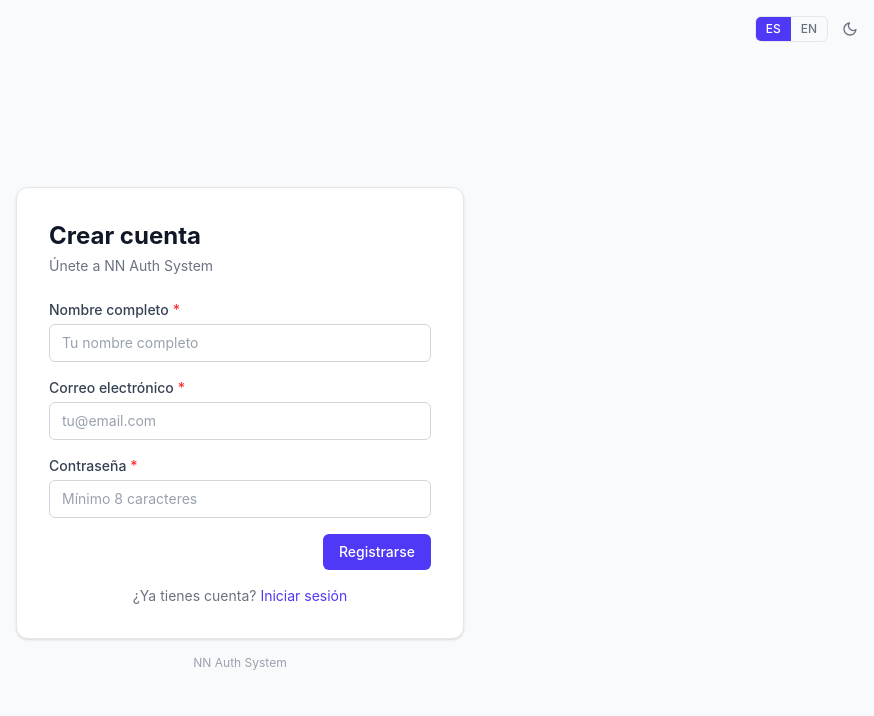
it: RegisterPage › shows error when password has fewer than 8 characters
Type "Test User" into the field labelled "Nombre completo*".
click(240, 343); type("Test User")  # box [49,324,431,362]
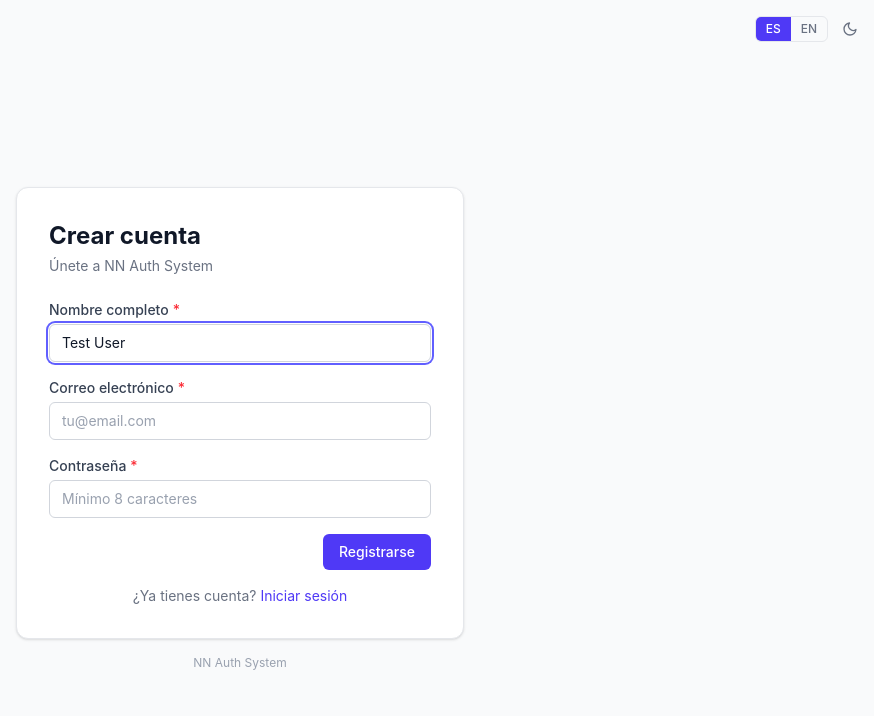
Type "test@test.com" into the field labelled "Correo electrónico*".
click(240, 421); type("test@test.com")  # box [49,402,431,440]
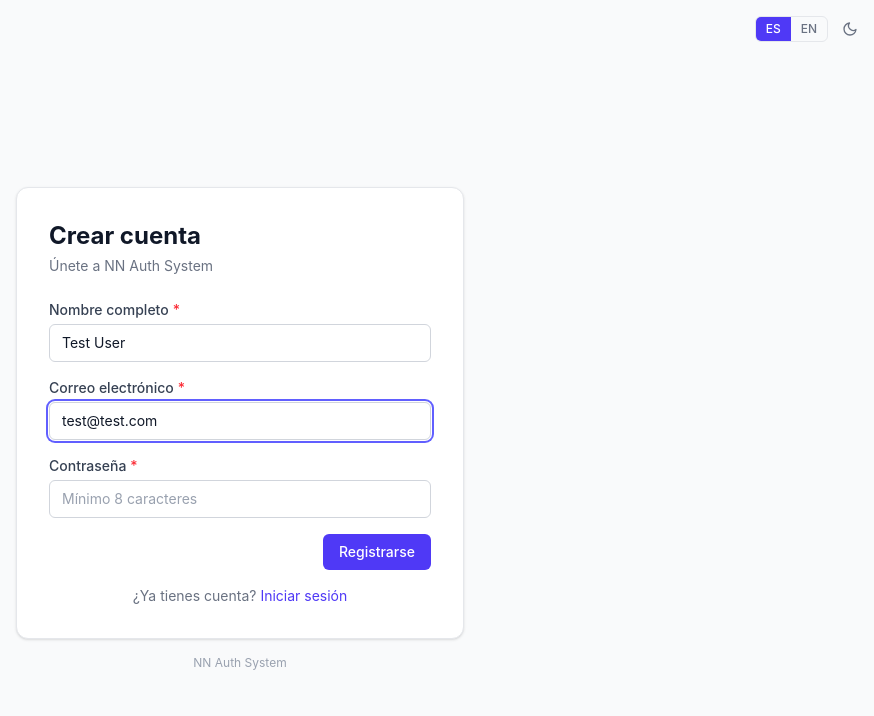
Type "short" into the password field labelled "Contraseña*".
click(240, 499); type("short")  # box [49,480,431,518]
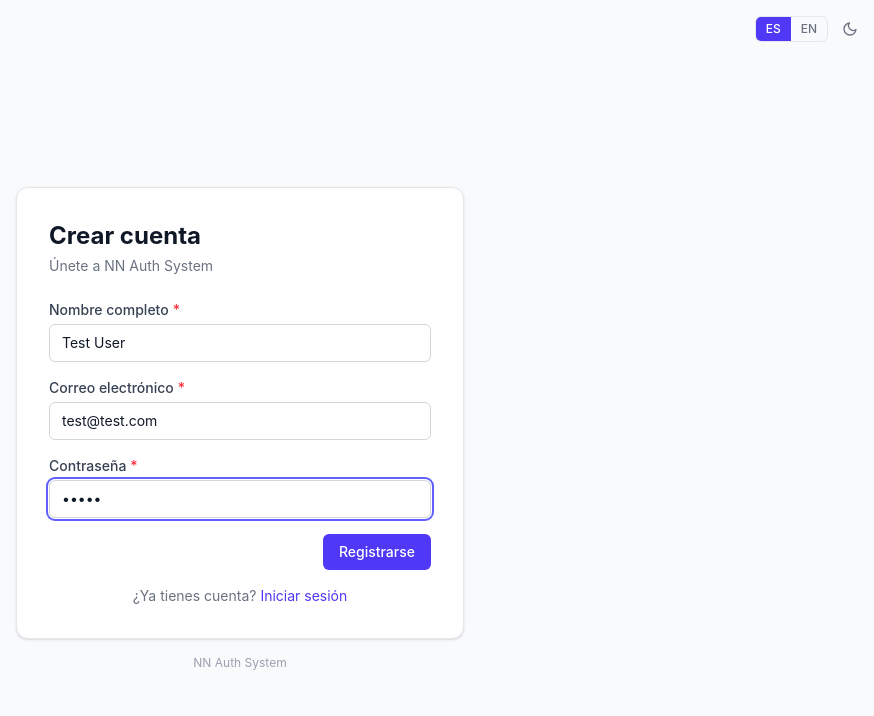
Click the button "Registrarse".
click(377, 552)  # box [323,534,431,570]
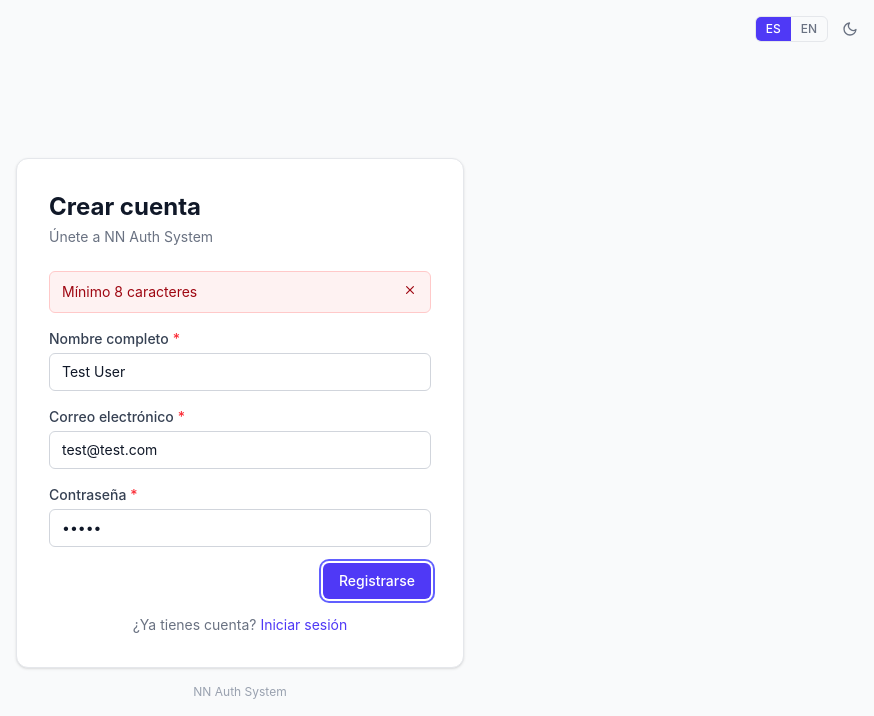
Expected: the message reads "Mínimo 8 caracteres", [62,283,197,300]
